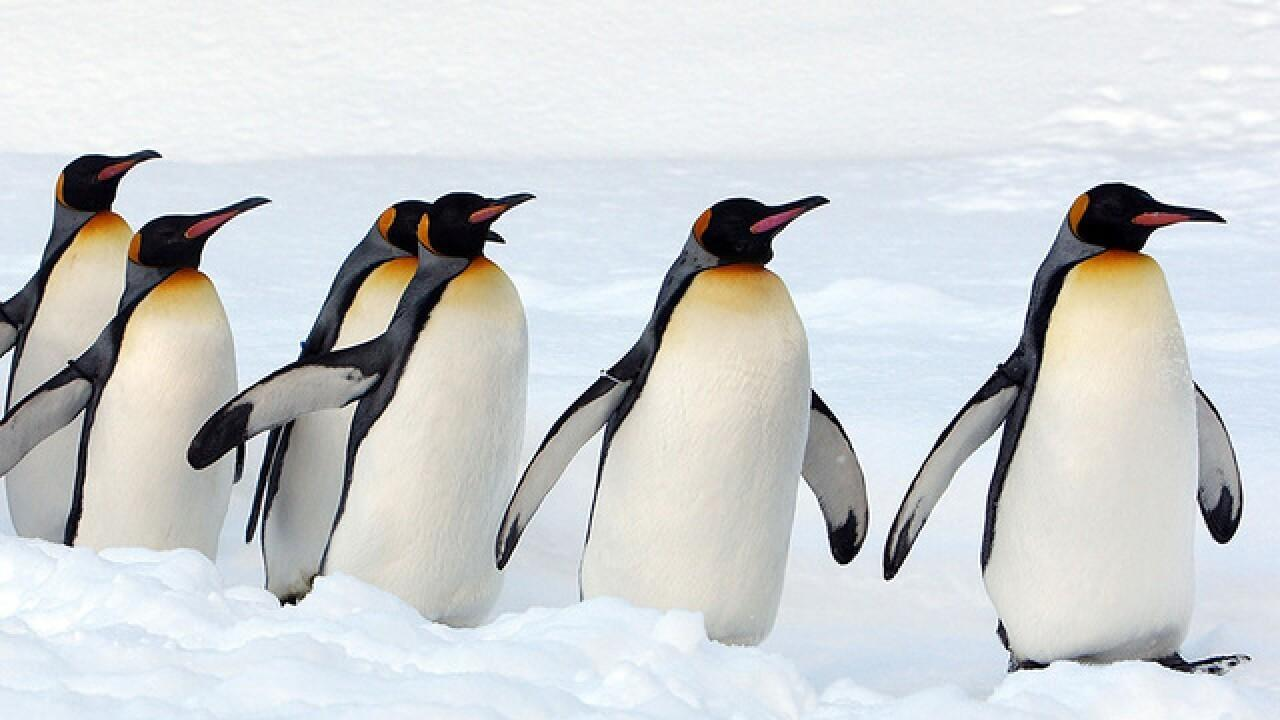Penguin: (885, 183, 1247, 673), (495, 195, 867, 645), (188, 193, 533, 624), (0, 198, 266, 558), (0, 150, 160, 408), (245, 405, 355, 602), (300, 200, 427, 358), (5, 420, 80, 541)
